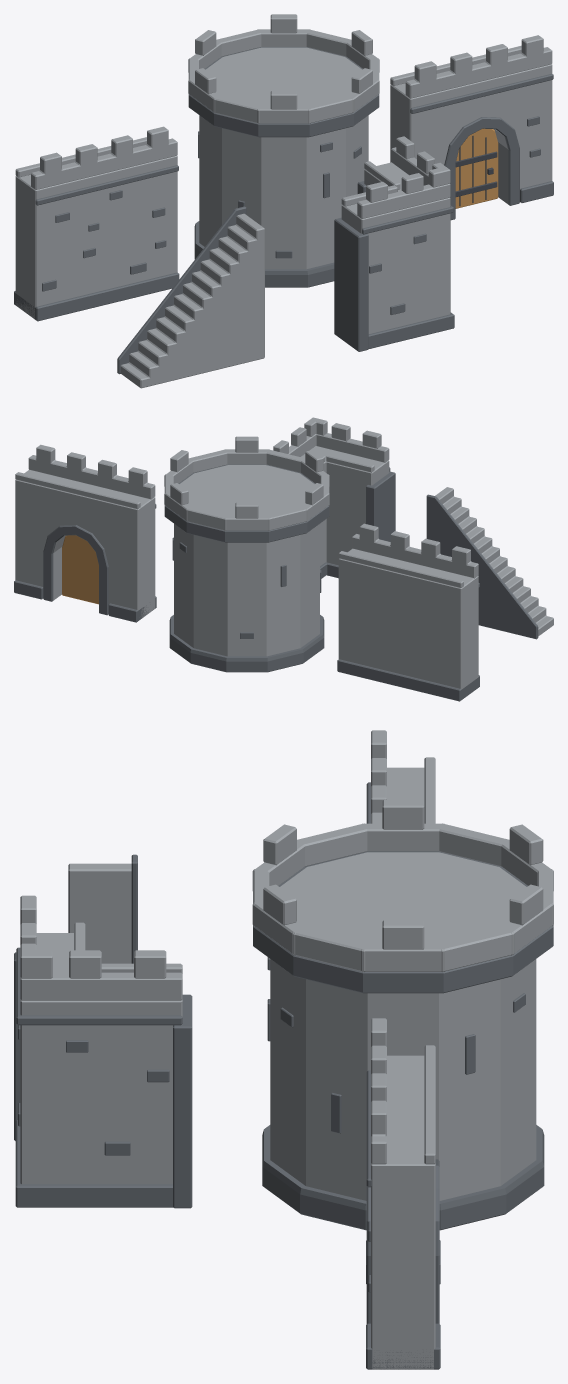
The model's file is modular-castle-wall-kit.glb.
The picture shows the model from 3 angles, top to bottom: view 1: azimuth 30°, elevation 25°; view 2: azimuth 150°, elevation 25°; view 3: azimuth 270°, elevation 25°; orthographic projection. The views are drawn at different scales.
Parts seen in each view (by area): view 1: Tower_Round, Wall_Straight, Wall_Corner, Wall_Gate, Wall_Stairs, Door; view 2: Tower_Round, Wall_Straight, Wall_Gate, Wall_Corner, Wall_Stairs, Door; view 3: Tower_Round, Wall_Corner, Wall_Gate, Wall_Stairs, Wall_Straight.
Boxes of the visible parts, bbox=[...] form: Tower_Round: bbox=[188, 14, 379, 287]; Wall_Straight: bbox=[14, 126, 179, 321]; Wall_Corner: bbox=[334, 136, 454, 351]; Wall_Gate: bbox=[390, 35, 553, 220]; Wall_Stairs: bbox=[117, 206, 264, 388]; Door: bbox=[455, 128, 498, 208]; Tower_Round: bbox=[164, 436, 329, 672]; Wall_Straight: bbox=[337, 523, 479, 701]; Wall_Gate: bbox=[14, 444, 156, 622]; Wall_Corner: bbox=[273, 417, 395, 578]; Wall_Stairs: bbox=[426, 487, 553, 639]; Door: bbox=[62, 535, 98, 604]; Tower_Round: bbox=[252, 800, 553, 1230]; Wall_Corner: bbox=[14, 895, 192, 1208]; Wall_Gate: bbox=[366, 1018, 440, 1369]; Wall_Stairs: bbox=[68, 854, 137, 963]; Wall_Straight: bbox=[366, 730, 435, 823].
Size of the model in its own units: 58.03 by 21 by 33.31.
